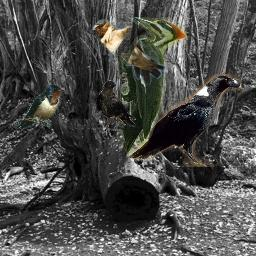Crow: (126, 74, 242, 167), (96, 80, 136, 131)
Swallow: (91, 19, 166, 85), (8, 84, 65, 129)
Woodpecker: (118, 17, 187, 153)
